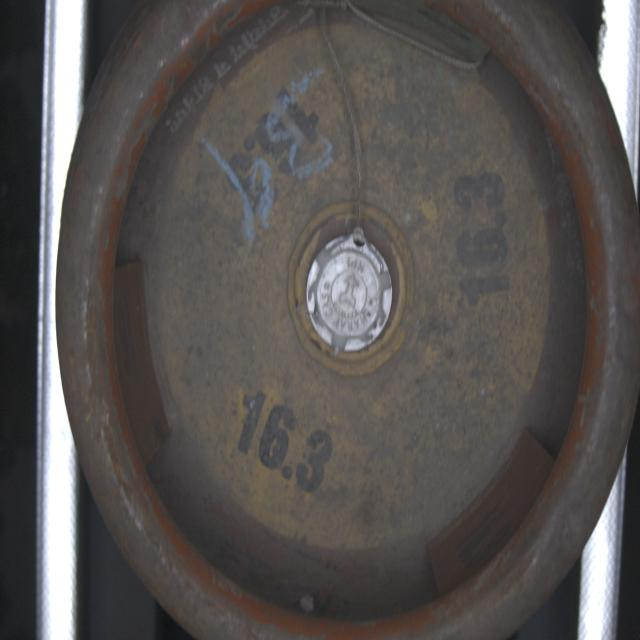Cap: (303, 234, 397, 360)
